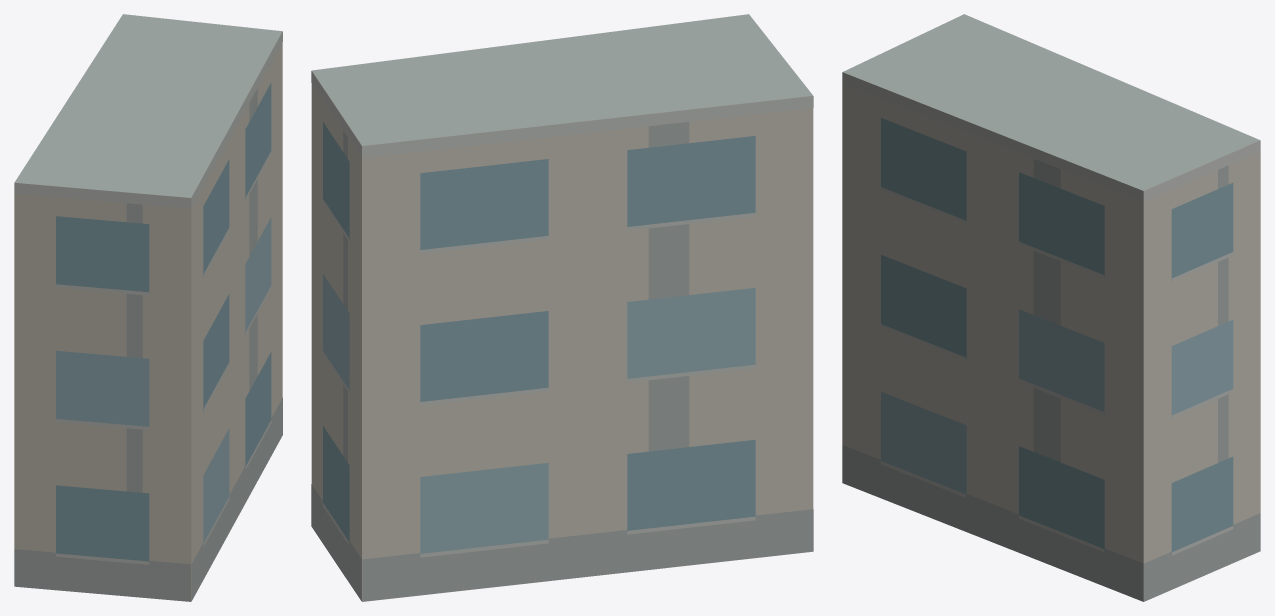
Rendered from survey-upis-32521040.glb.
3 renders of one model, left to right at view 1: azimuth 30°, elevation 25°; view 2: azimuth 150°, elevation 25°; view 3: azimuth 270°, elevation 25°, orthographic. The views are drawn at different scales.
Visible parts, largest first — view 1: survey-upis-32521040.tmp; view 2: survey-upis-32521040.tmp; view 3: survey-upis-32521040.tmp.
Part boxes in pixels (x1=…): survey-upis-32521040.tmp: x1=14, y1=14, x2=282, y2=601; survey-upis-32521040.tmp: x1=311, y1=14, x2=813, y2=601; survey-upis-32521040.tmp: x1=842, y1=14, x2=1260, y2=601.
Size of the model in its own units: 8.46 by 9.15 by 8.45.
